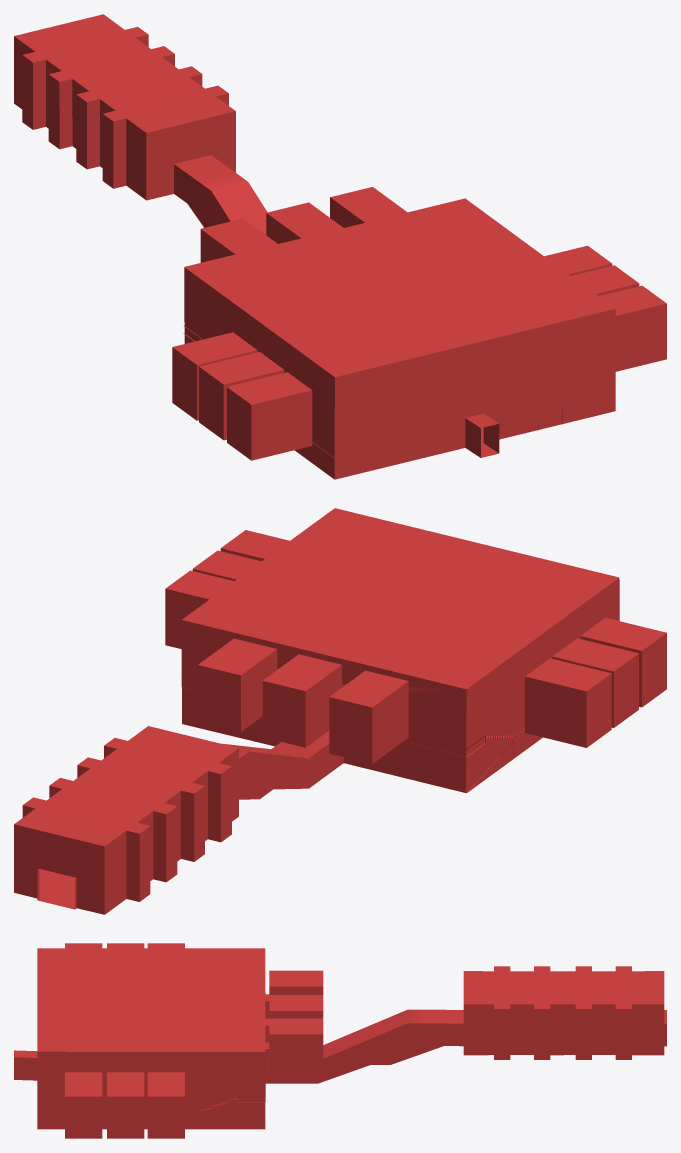
File: Zone7_Map.fbx
3 renders of one model, top to bottom at view 1: azimuth 30°, elevation 25°; view 2: azimuth 150°, elevation 25°; view 3: azimuth 270°, elevation 25°, orthographic. The views are drawn at different scales.
Parts seen in each view (by area): view 1: Zone7MAP; view 2: Zone7MAP; view 3: Zone7MAP.
Part boxes in pixels (left/top/right/bottom): Zone7MAP: left=14, top=14, right=666, bottom=479; Zone7MAP: left=14, top=508, right=666, bottom=914; Zone7MAP: left=14, top=943, right=666, bottom=1138.
Size of the model in its own units: 3199 by 867 by 5754.
